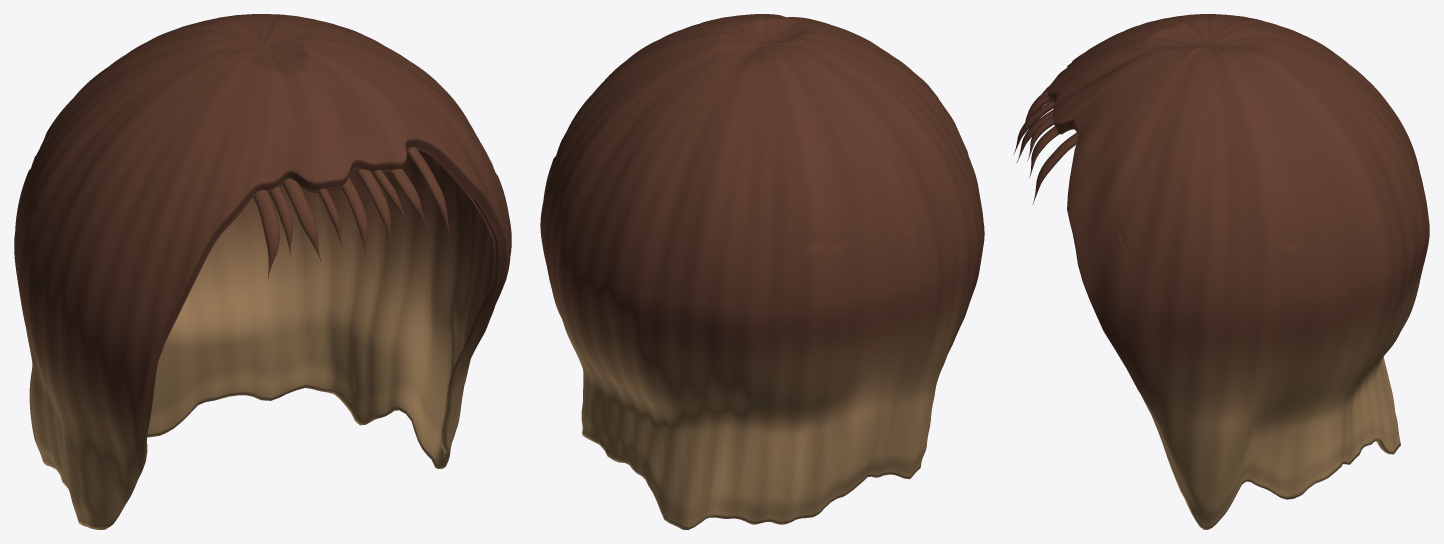
The model's file is side-sweep-cowboy-ombre.glb.
3 views of the same model, side by side, from view 1: azimuth 30°, elevation 25°; view 2: azimuth 150°, elevation 25°; view 3: azimuth 270°, elevation 25° (orthographic). The views are drawn at different scales.
Parts seen in each view (by area): view 1: Hair / layered lob, Fringe / tapered lock 01, Fringe / tapered lock 03, Fringe / tapered lock 09, Fringe / tapered lock 06, Fringe / tapered lock 05, Fringe / tapered lock 02, Fringe / tapered lock 08; view 2: Hair / layered lob; view 3: Hair / layered lob, Fringe / tapered lock 09.
Part boxes in pixels (x1=…): Hair / layered lob: x1=14, y1=14, x2=511, y2=529; Fringe / tapered lock 01: x1=253, y1=189, x2=279, y2=278; Fringe / tapered lock 03: x1=282, y1=178, x2=321, y2=261; Fringe / tapered lock 09: x1=406, y1=147, x2=450, y2=237; Fringe / tapered lock 06: x1=355, y1=169, x2=392, y2=245; Fringe / tapered lock 05: x1=342, y1=177, x2=367, y2=259; Fringe / tapered lock 02: x1=269, y1=186, x2=292, y2=257; Fringe / tapered lock 08: x1=391, y1=169, x2=427, y2=226; Hair / layered lob: x1=540, y1=14, x2=984, y2=529; Hair / layered lob: x1=1048, y1=14, x2=1429, y2=529; Fringe / tapered lock 09: x1=1032, y1=132, x2=1078, y2=204.
Bounding box in the file's own units: 0.8388 × 0.8737 × 0.7904.
